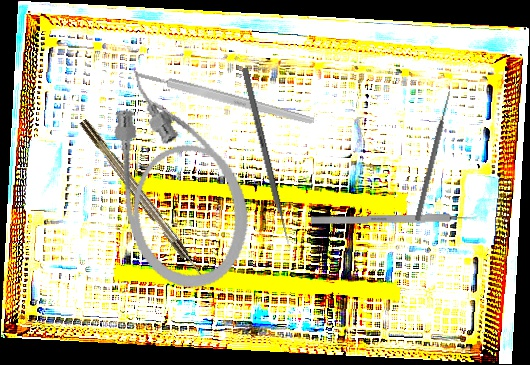Cannula: (95, 53, 262, 300)
Hook Surgical: (79, 117, 210, 286), (310, 213, 483, 225)
Pusher: (240, 67, 294, 252), (413, 90, 454, 222)
Scalpel Handle: (134, 68, 317, 127)
